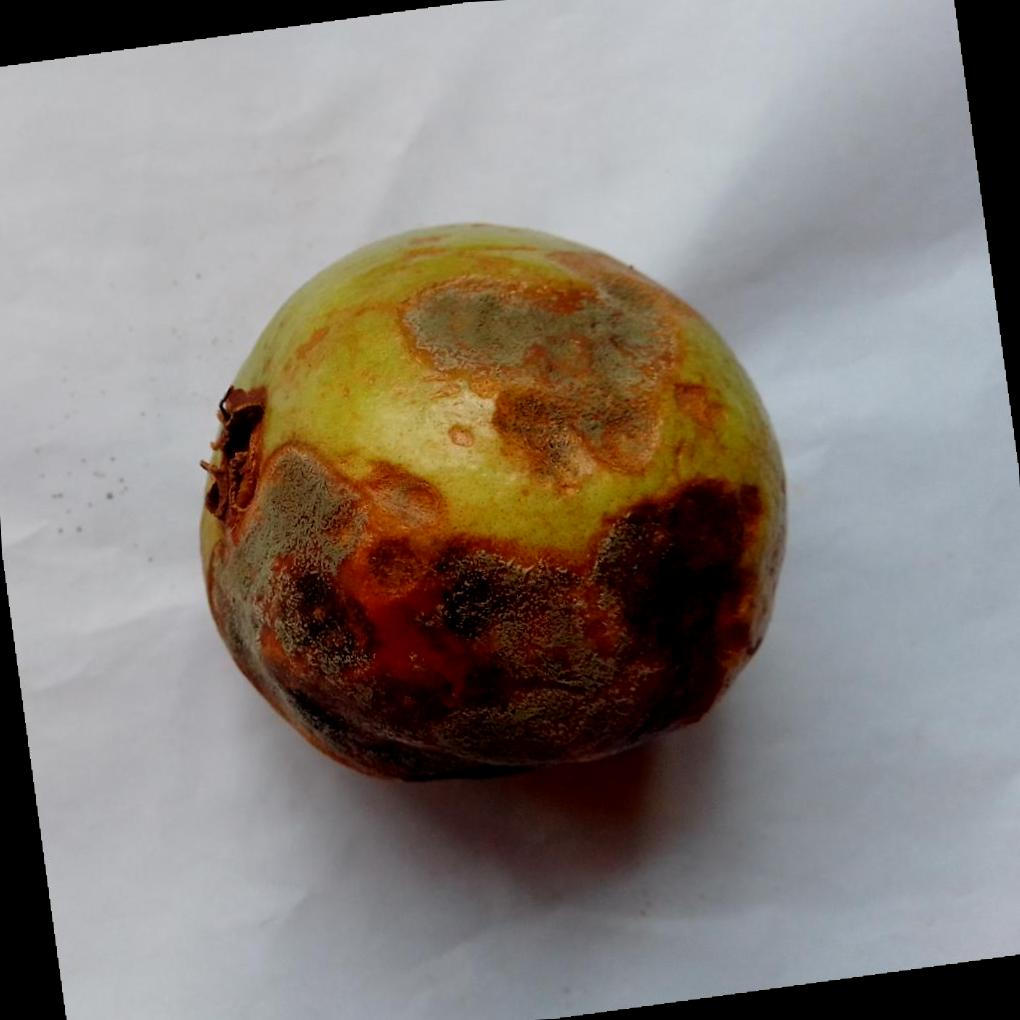FreshOrange: (198, 224, 789, 785)
